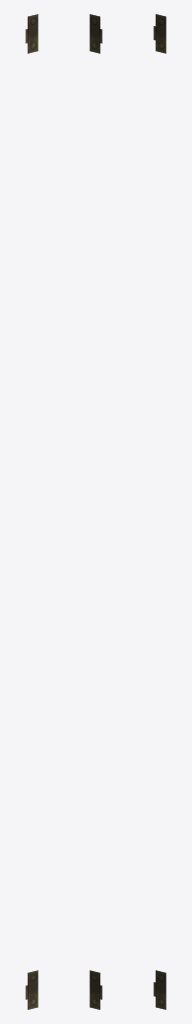
The model's file is toguti04ar_axis.fbx.
3 renders of one model, left to right at view 1: azimuth 30°, elevation 25°; view 2: azimuth 150°, elevation 25°; view 3: azimuth 330°, elevation 25°, orthographic.
Parts seen in each view (by area): view 1: toguti04ar_axis; view 2: toguti04ar_axis; view 3: toguti04ar_axis.
Part boxes in pixels (<box>): toguti04ar_axis: <box>25,14,38,1009</box>; toguti04ar_axis: <box>89,14,102,1009</box>; toguti04ar_axis: <box>153,14,166,1009</box>.
Size of the model in its own units: 2.24 by 170 by 1.9e-06.
